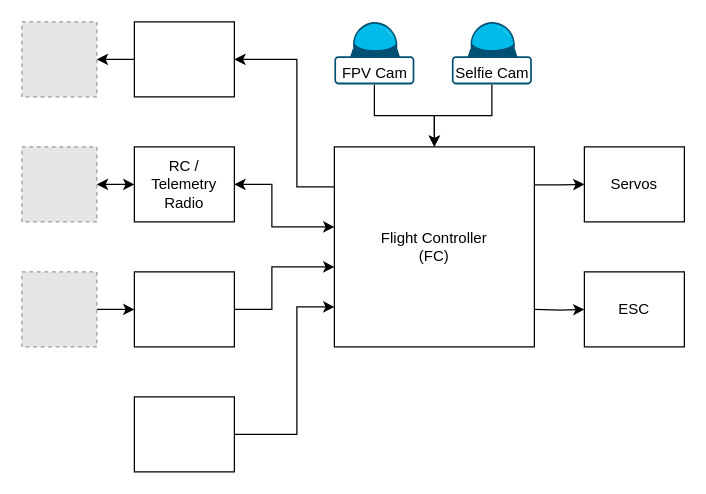
Image size: 706x494. Some labels were removed from this diagram. Grey dashed boxes stand in for pictures. The shapes that lost their labels are listed below. From the top down, each one's box as (x1, y1, x2, y2) in pixels, then its label:
(133, 21, 234, 97): Video Transmitter (VTX)
(133, 271, 234, 347): GPS Module
(133, 396, 234, 472): Sensors
